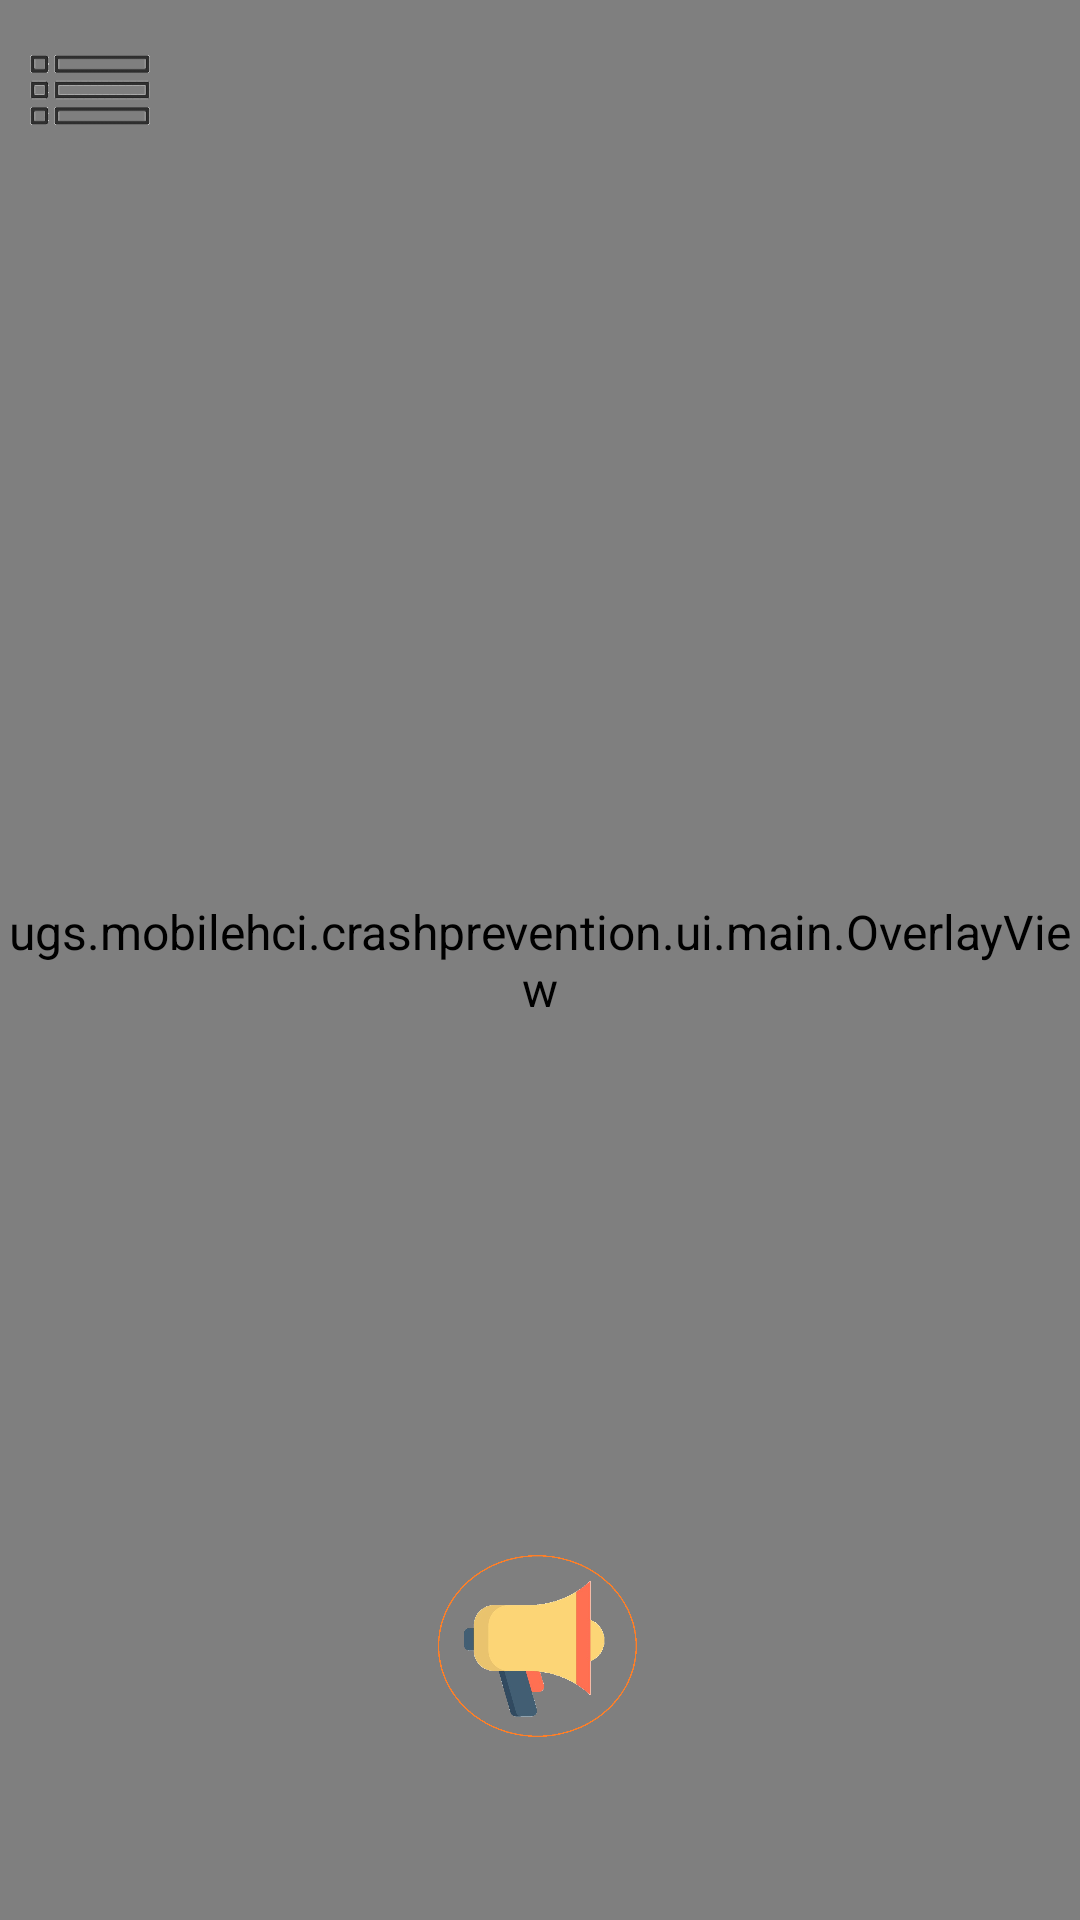

Locate icon controls on the screen. Image size 1080*1920, boxes as [x1, y1, x2, y2].
horn: [438, 1555, 637, 1737]
menu: [30, 55, 150, 125]
